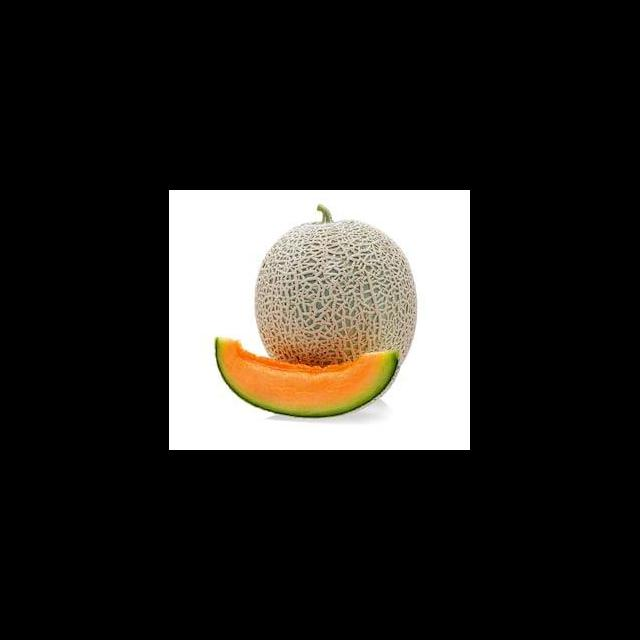Hami Melon: (254, 202, 416, 363), (216, 336, 402, 419)
